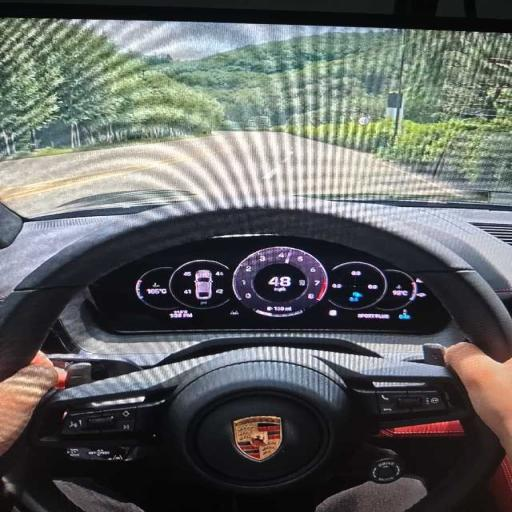car: (0, 2, 511, 511), (195, 270, 212, 300)
lane: (0, 132, 449, 216)
person: (445, 343, 511, 459)
